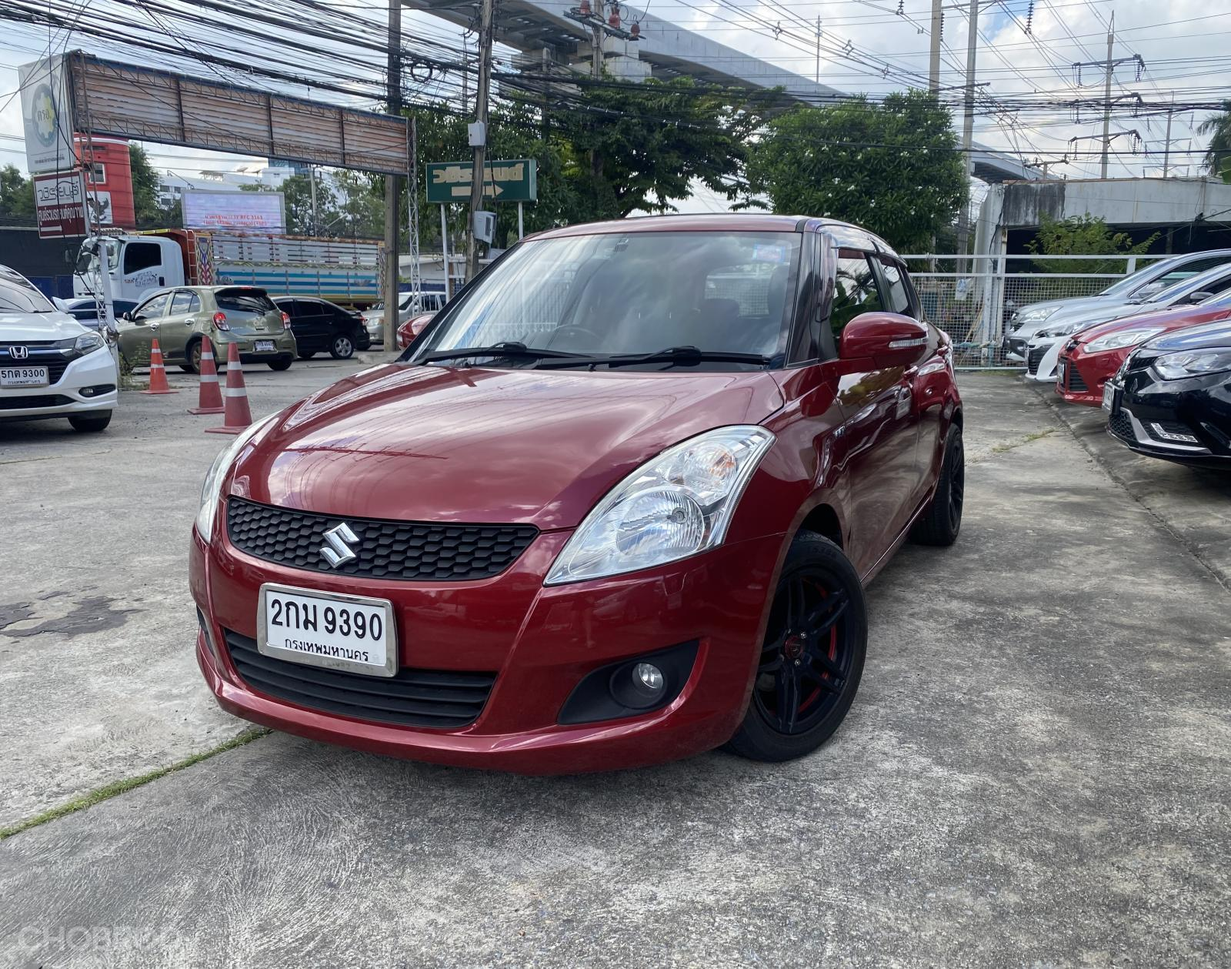license-plate: (256, 582, 406, 684), (0, 365, 53, 396)
